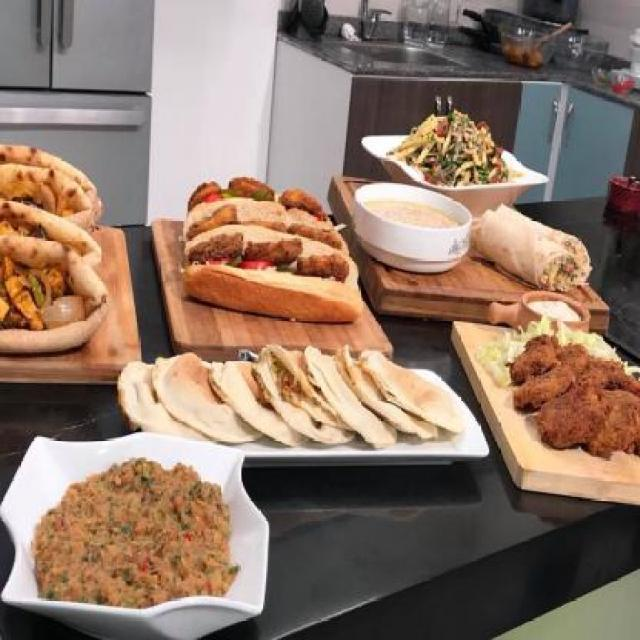breakfast burrito: (476, 196, 590, 287)
falafel: (179, 176, 358, 318), (510, 332, 638, 462)
hummus: (350, 179, 473, 252)
